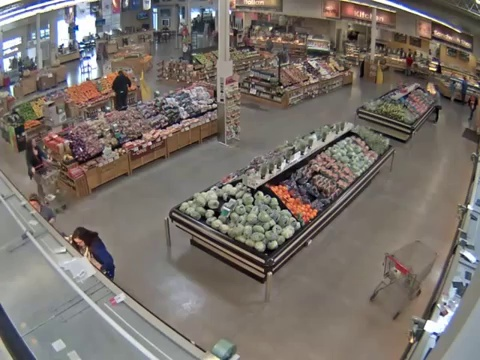face: (75, 234, 86, 248), (30, 198, 42, 208), (28, 140, 37, 149)
